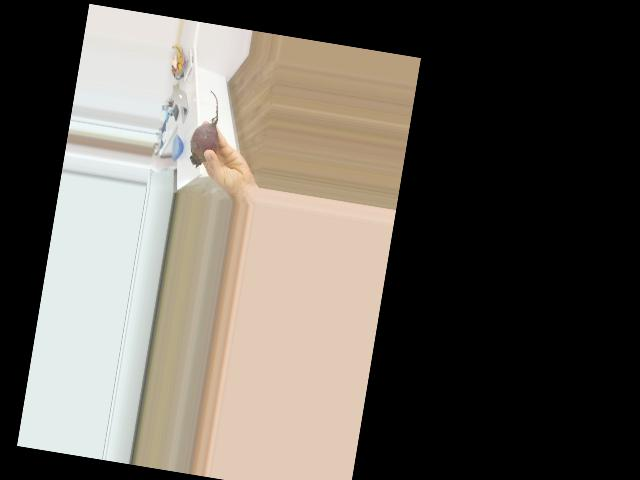beet: (187, 88, 226, 170)
